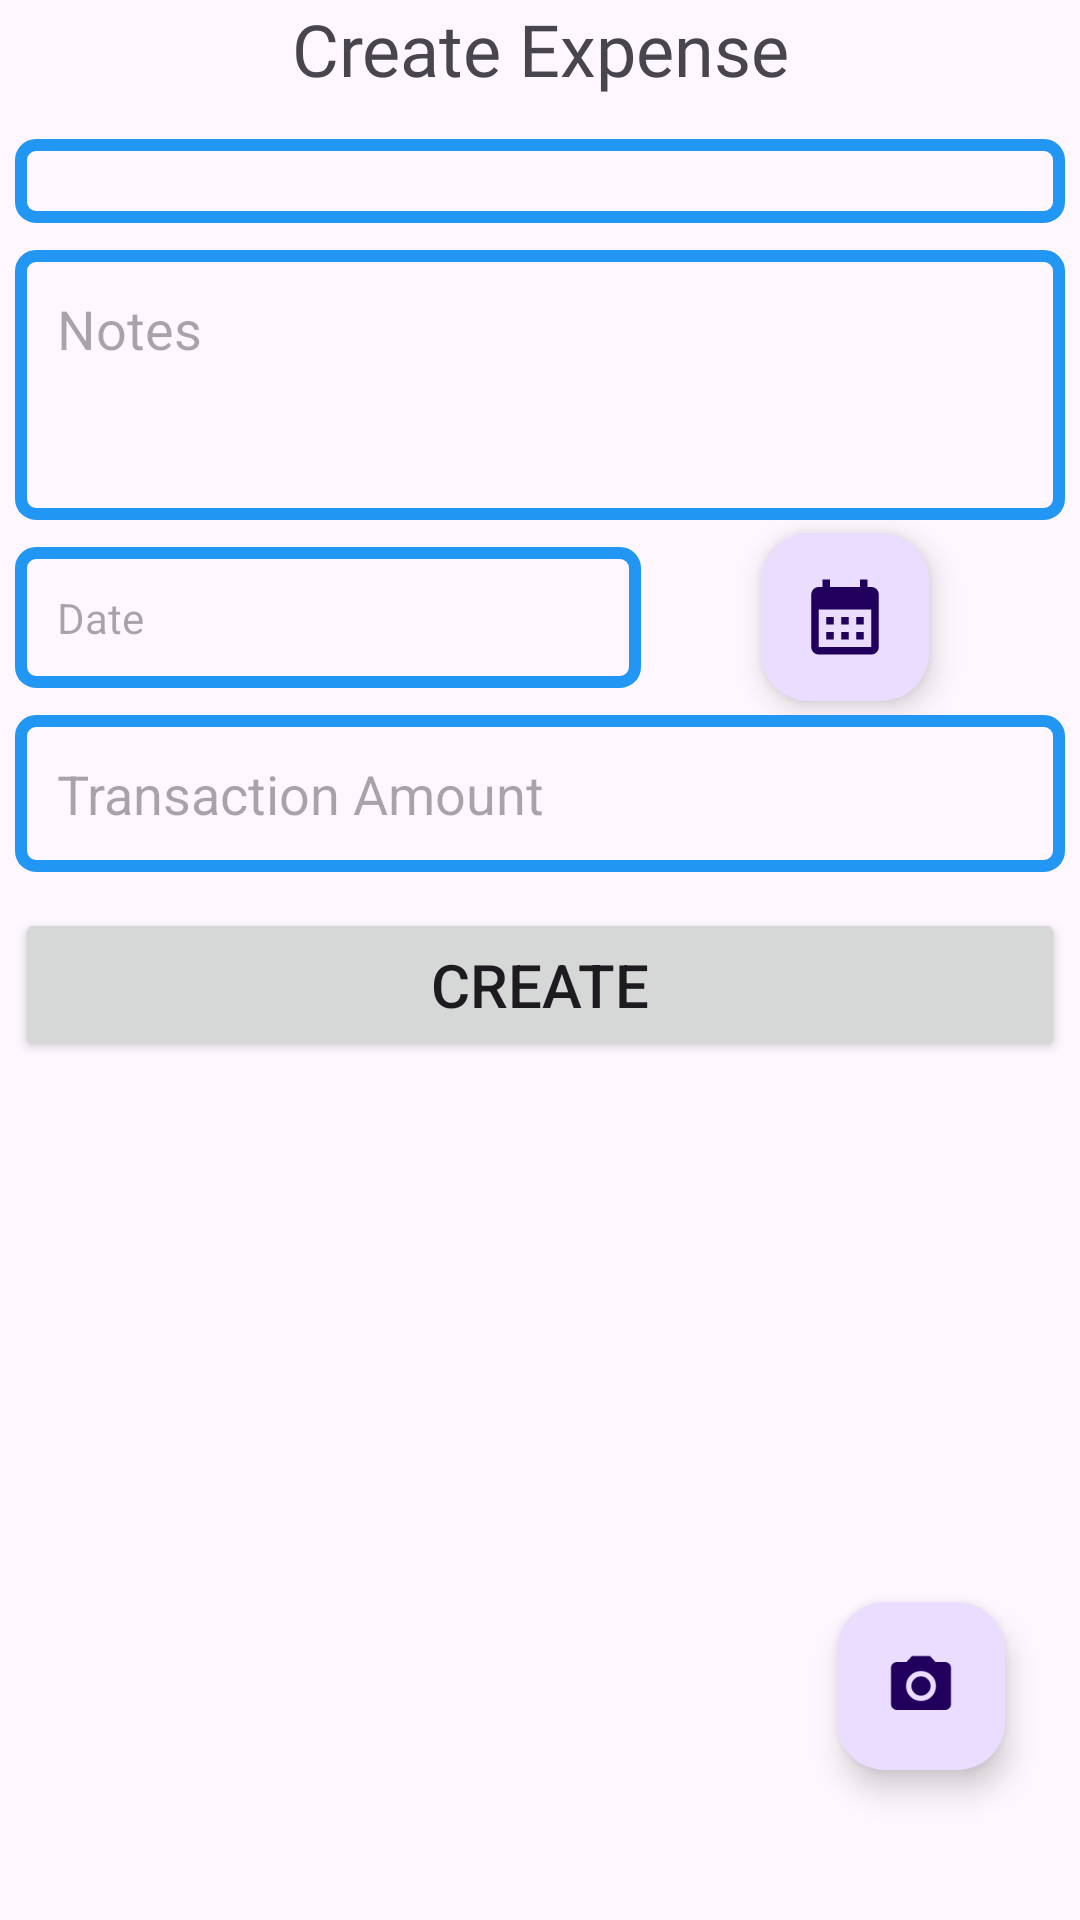

Where to tap for icons on this 1080w x 1920h app screen, as [x,y]:
calendar month: [845,617]
photo camera: [921,1686]
